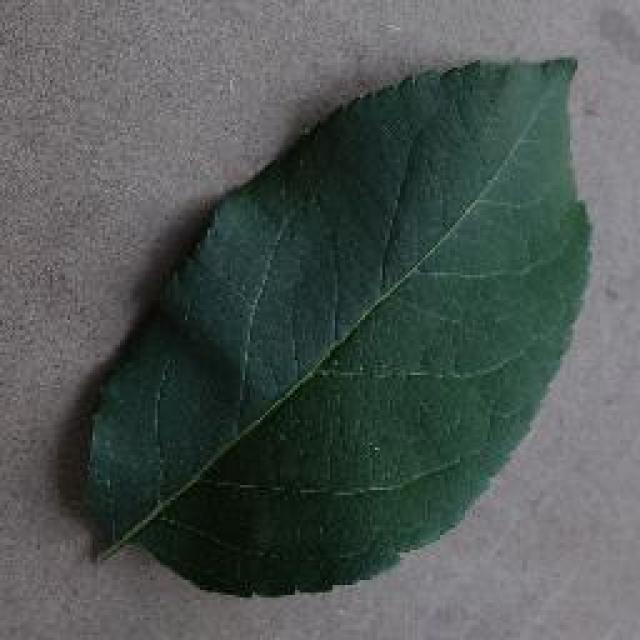apple healthy: (77, 50, 595, 598)
